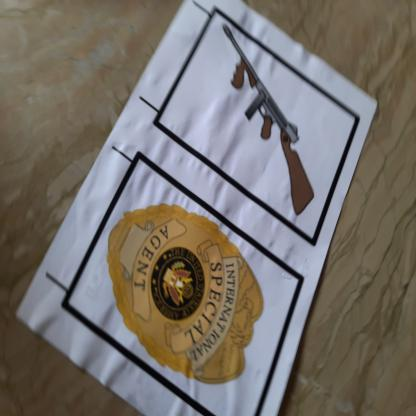Bootlegger: (221, 18, 318, 225)
G-man: (105, 203, 269, 389)
